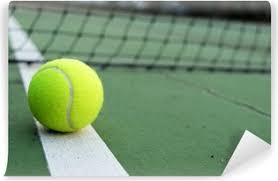tennis_ball: (27, 57, 104, 134)
